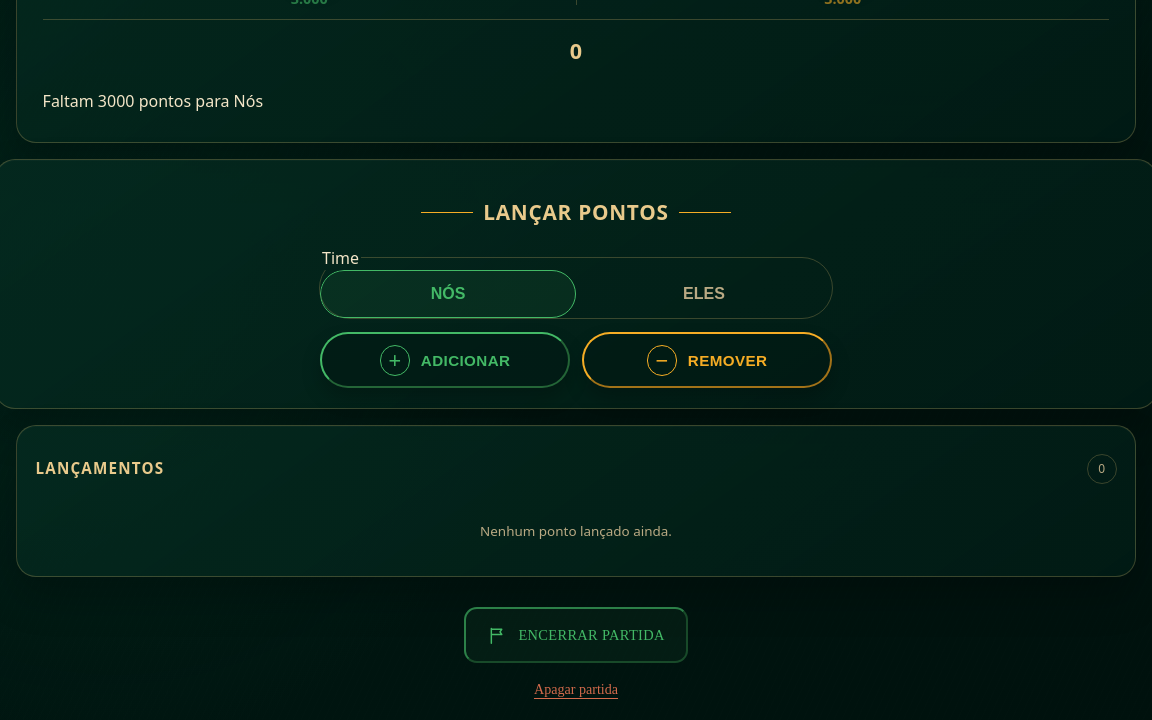
canastra screens › opens the amount modal and closes it without creating an entry
(page scrolled)
Expected: the heading "Lançar pontos" is shown, [483,198,669,226]
Click the button with aria-label "Adicionar pontos". click: point(445, 360)
box: [320,332,570,388]
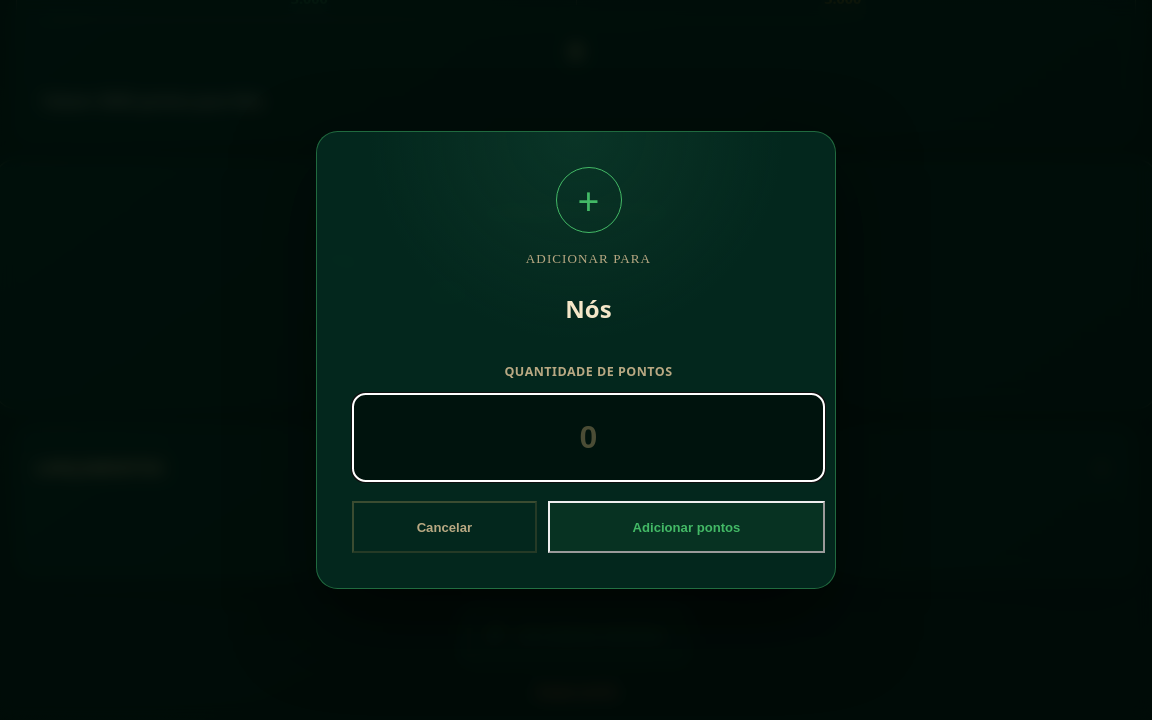
Click the button "Cancelar". click: point(444, 527)
box: [352,501,537,553]
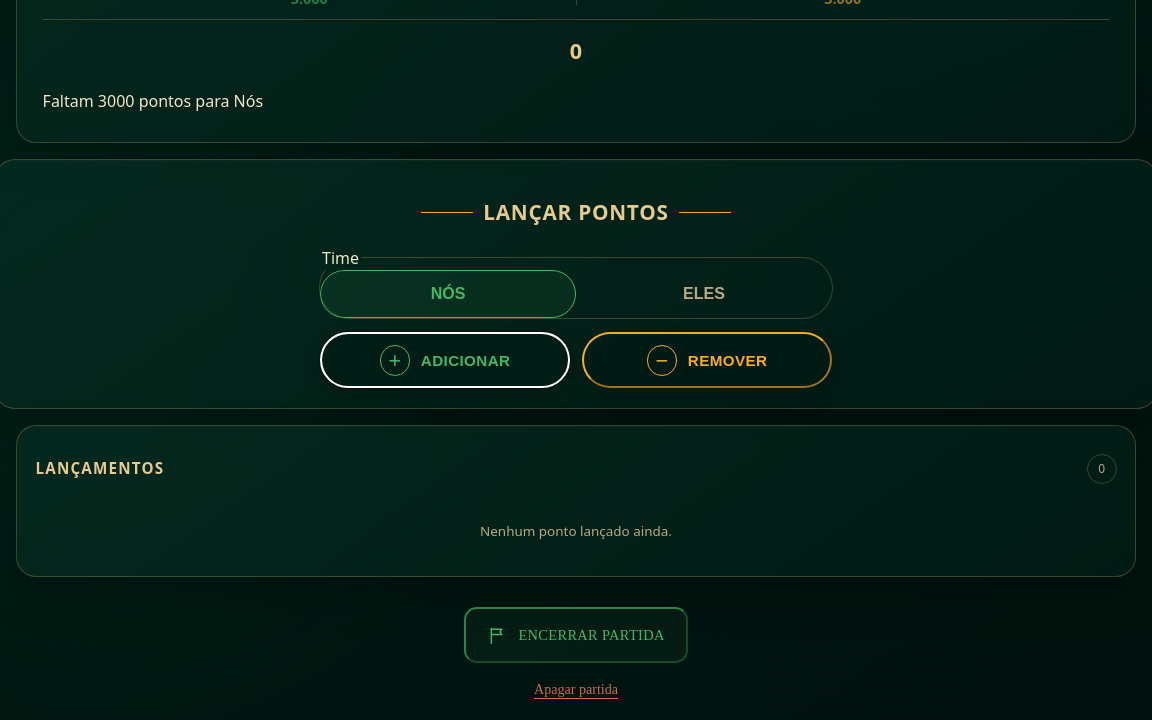
Expected: the dialog is gone
Click the button with aria-label "Adicionar pontos". click: point(445, 360)
box: [320,332,570,388]
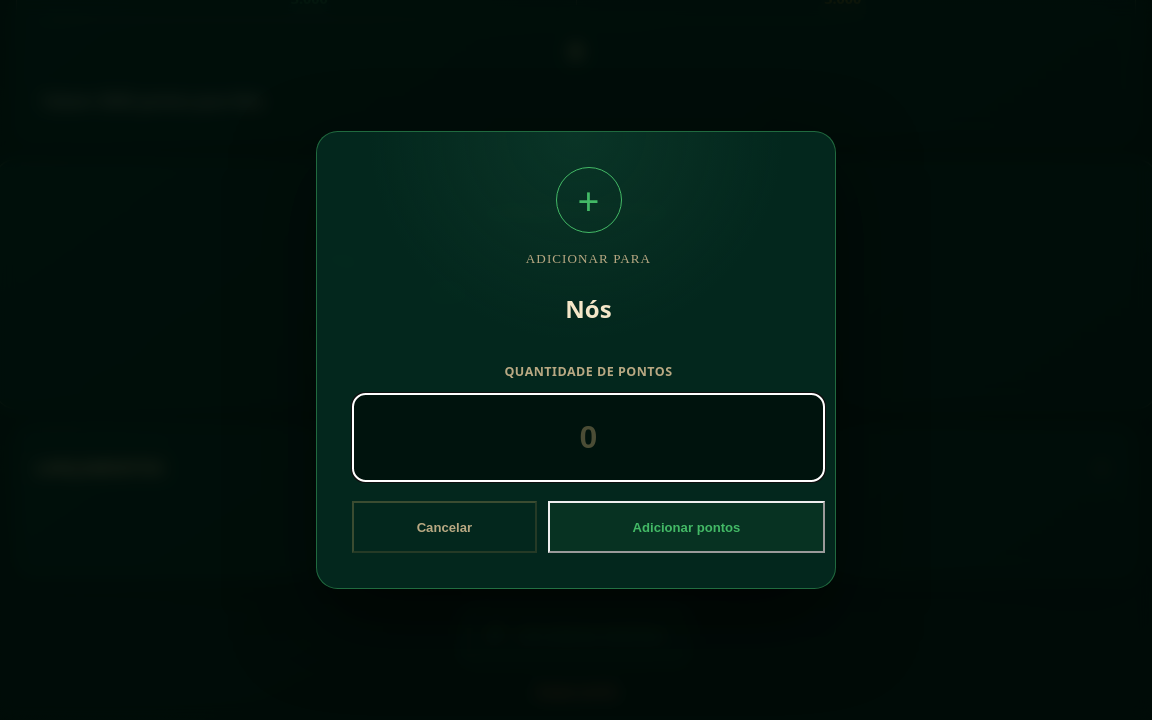
Press Escape
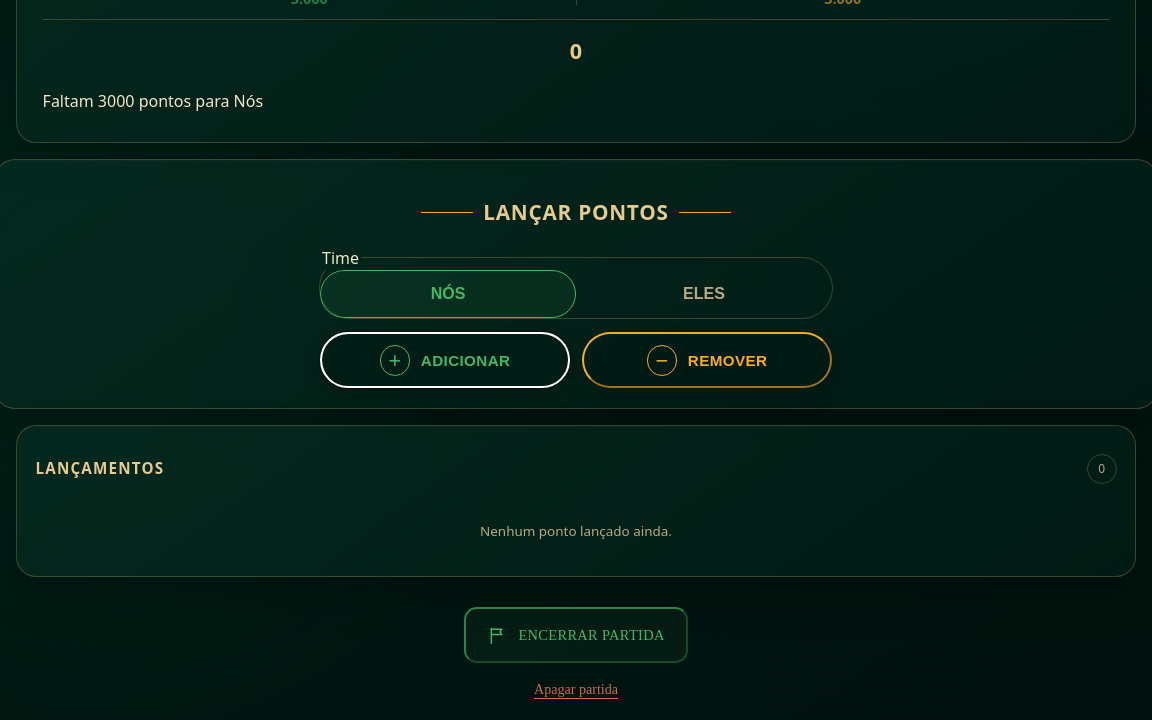
Expected: the dialog is gone
Click the button with aria-label "Adicionar pontos". click: point(445, 360)
box: [320,332,570,388]
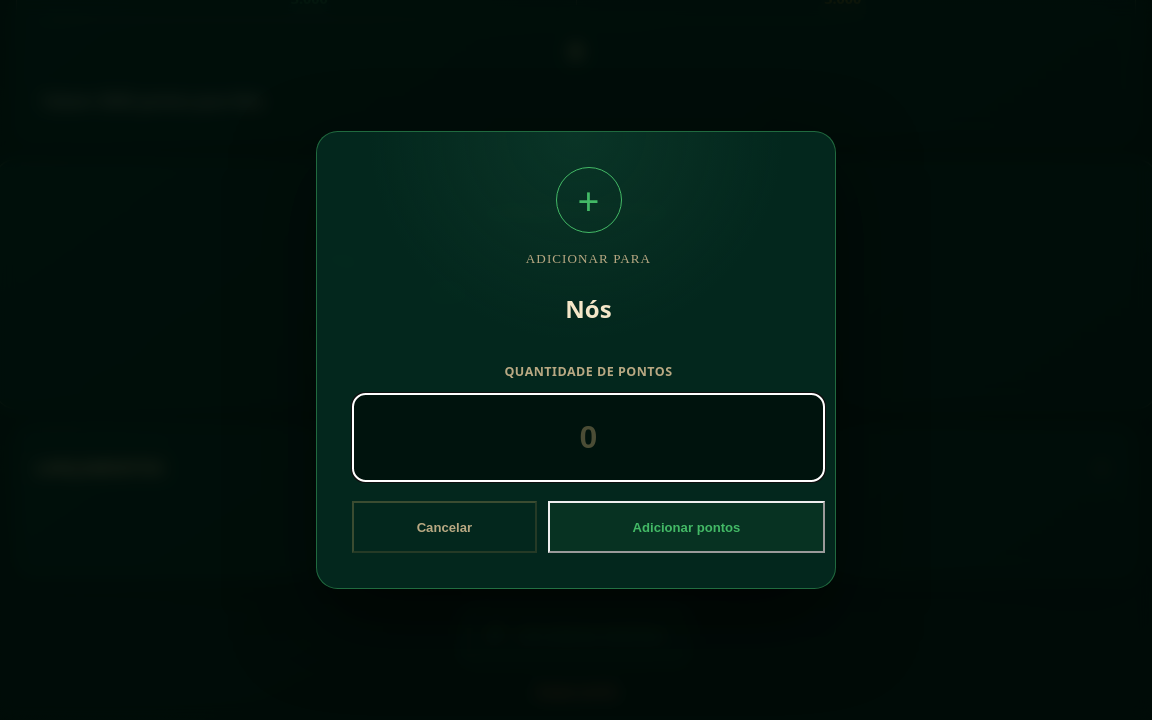
Press the mouse on the element that starts with "Adicionar para" at point(576, 360), box [0,0,1151,719]
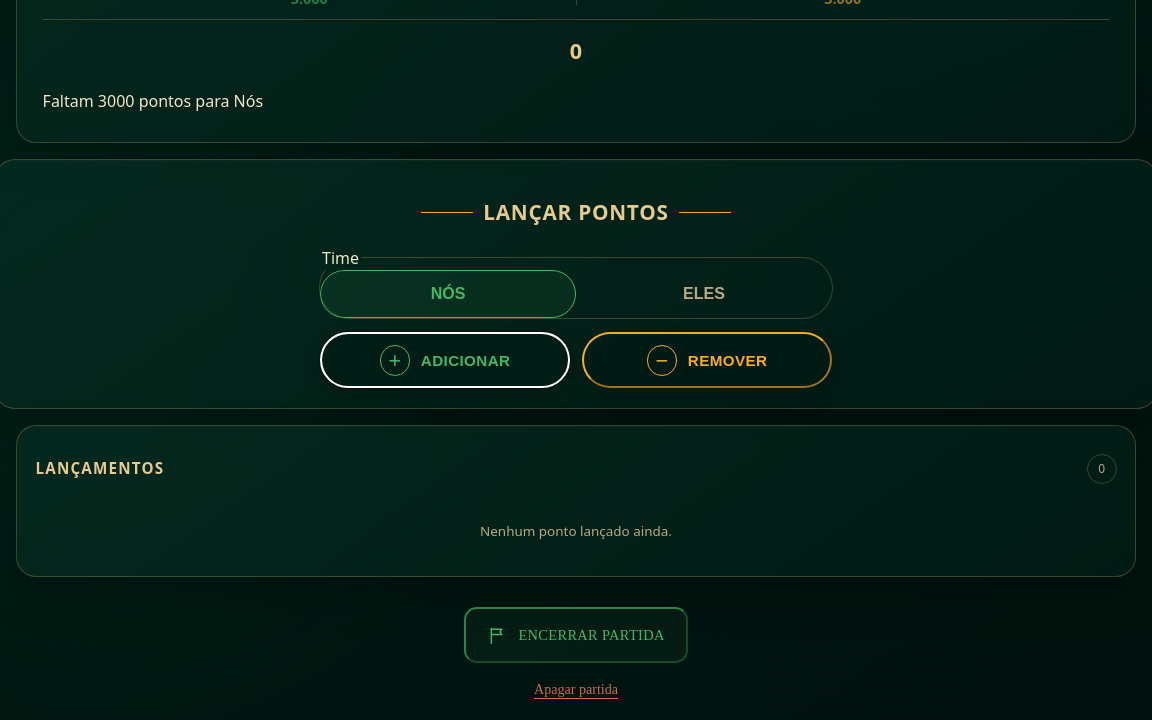
Expected: the dialog is gone
Expected: the field is gone
